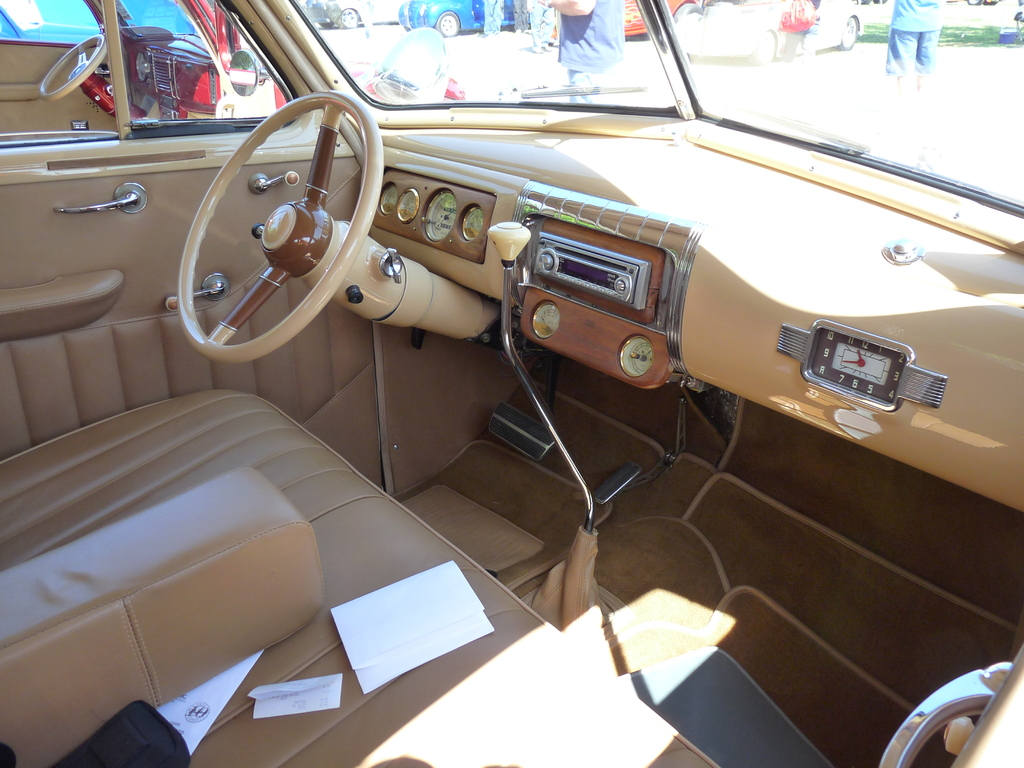Car: (56, 24, 997, 768)
